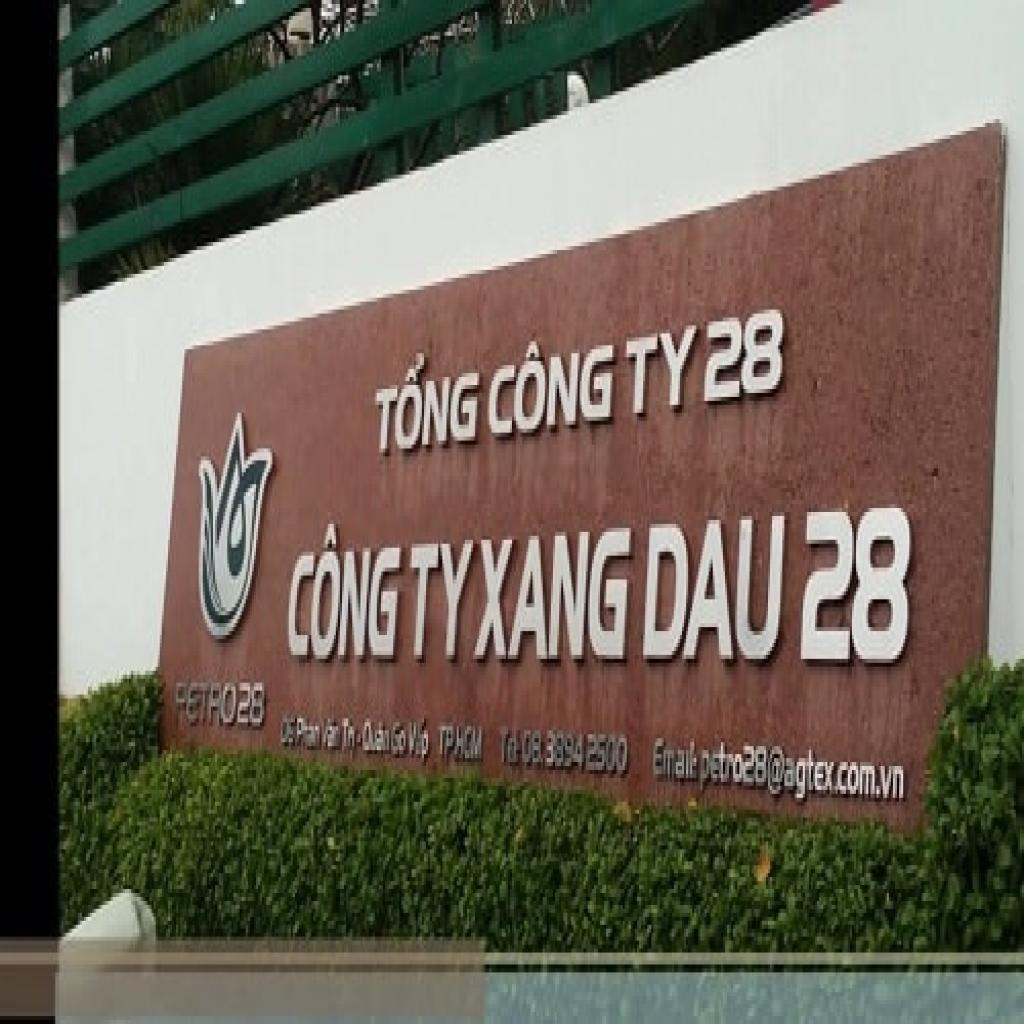text: (465, 520, 635, 679), (637, 504, 790, 679), (794, 492, 922, 683), (486, 310, 622, 456), (284, 516, 408, 675), (366, 338, 490, 468), (694, 290, 791, 428), (402, 532, 484, 679), (616, 306, 704, 428), (166, 671, 274, 746), (520, 722, 629, 782), (436, 722, 490, 774), (650, 730, 700, 786), (408, 714, 432, 774), (360, 718, 394, 758), (295, 715, 323, 754), (500, 722, 522, 770), (389, 718, 410, 762), (340, 718, 358, 766), (279, 711, 299, 754), (322, 718, 342, 754)
